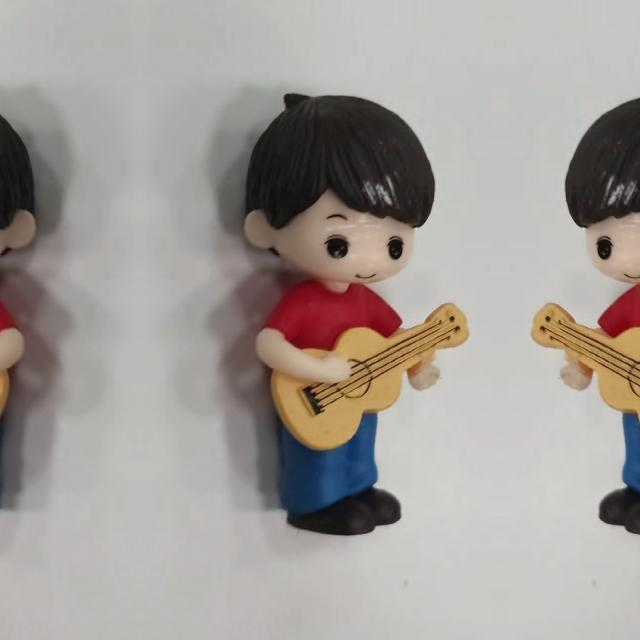man cloth: (255, 287, 410, 409), (590, 287, 640, 409), (0, 287, 25, 409)
man head: (222, 84, 442, 286), (558, 84, 640, 286), (0, 84, 58, 286)
trousers: (268, 413, 426, 565), (574, 413, 640, 565), (0, 413, 11, 565)
